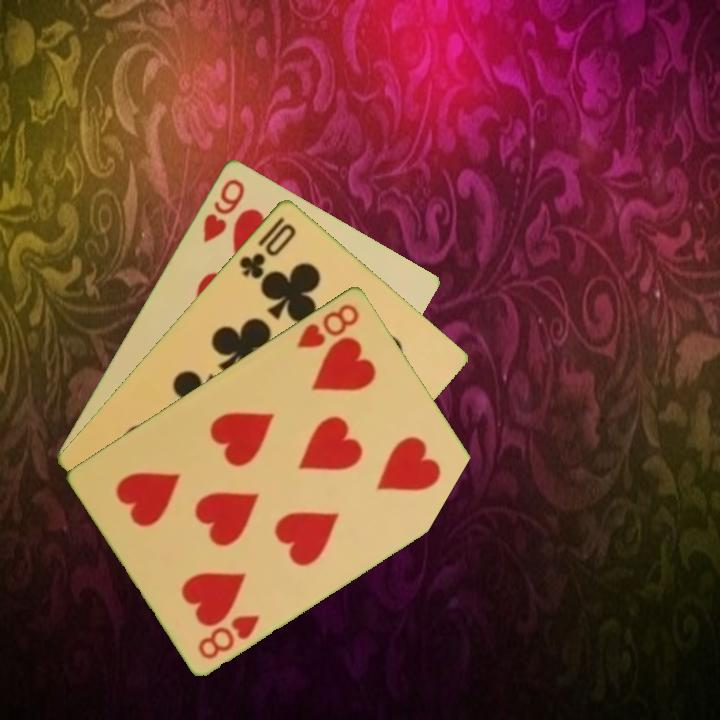10c: (235, 212, 299, 282)
8h: (293, 299, 363, 351), (194, 610, 263, 662)
9h: (199, 174, 248, 245)
